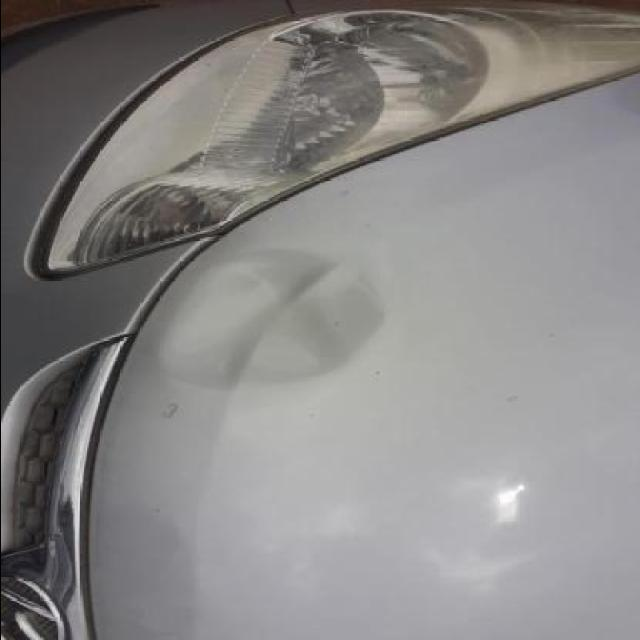bonnet-dent: (83, 130, 640, 639)
